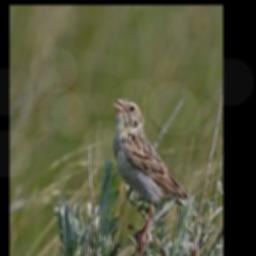Sparrow: (112, 91, 208, 249)
